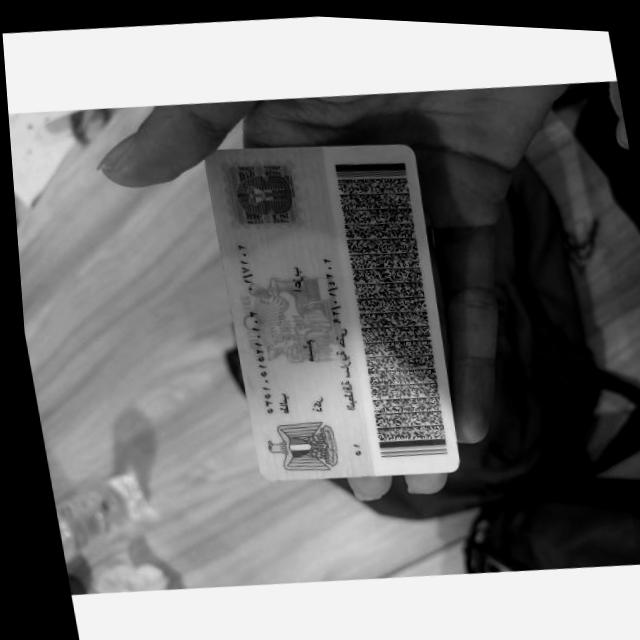back: (205, 143, 457, 479)
